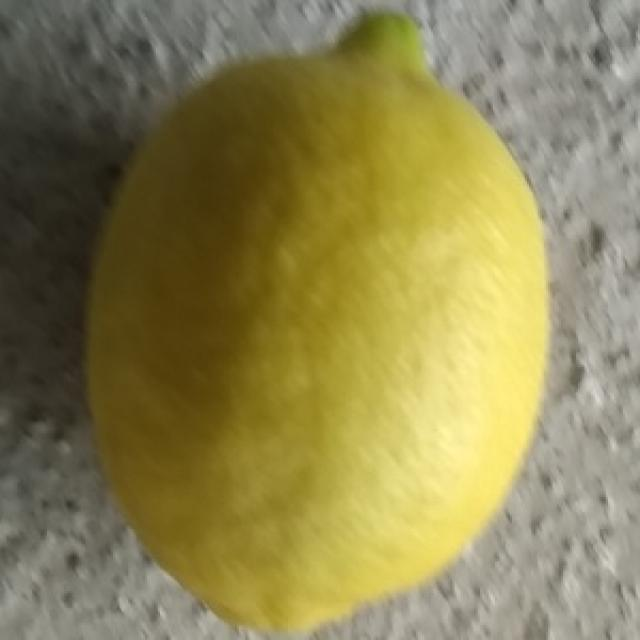Lemon: (87, 18, 539, 638)
